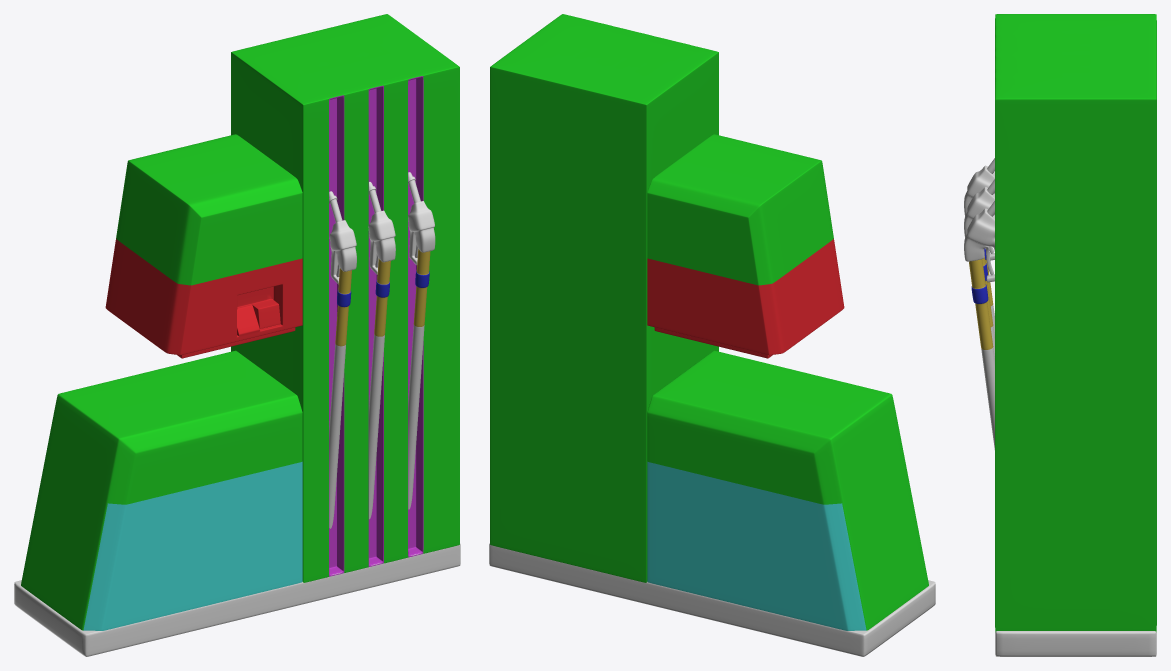
File: gasoline_pump.fbx
3 renders of one model, left to right at view 1: azimuth 30°, elevation 25°; view 2: azimuth 150°, elevation 25°; view 3: azimuth 270°, elevation 25°, orthographic. The views are drawn at different scales.
Parts seen in each view (by area): view 1: gaspump_holder, lower_cube, payment_cube, base, pump_hose01, pump_hose03, pump_hose02, gas_pump_handle02, gas_pump_handle03, gas_pump_separate.002, gas_pump_separate, pump_hose_top02 (+1 smaller); view 2: gaspump_holder, lower_cube, payment_cube, base; view 3: gaspump_holder, base, gas_pump_handle03, pump_hose_top03, pump_hose03, gas_pump_handle02, gas_pump_separate.002.
Boxes of the visible parts, x1,y1,x2,y2 form: gaspump_holder: (231,14,459,582); lower_cube: (21,350,302,630); payment_cube: (105,134,302,358); base: (14,543,460,656); pump_hose01: (329,344,345,528); pump_hose03: (408,324,424,509); pump_hose02: (369,334,384,519); gas_pump_handle02: (368,210,395,274); gas_pump_handle03: (408,201,435,265); gas_pump_separate.002: (329,220,356,284); gas_pump_separate: (335,268,351,346); pump_hose_top02: (374,258,390,336); gaspump_holder: (490,14,718,582); lower_cube: (647,350,928,630); payment_cube: (647,134,844,358); base: (489,543,935,656); gaspump_holder: (995,14,1156,632); base: (995,631,1156,656); gas_pump_handle03: (964,208,994,282); pump_hose_top03: (969,259,993,349); pump_hose03: (981,347,994,449); gas_pump_handle02: (964,186,994,260); gas_pump_separate.002: (964,165,994,216).
Bounding box in the file's own units: 173 × 219 × 68.66.
